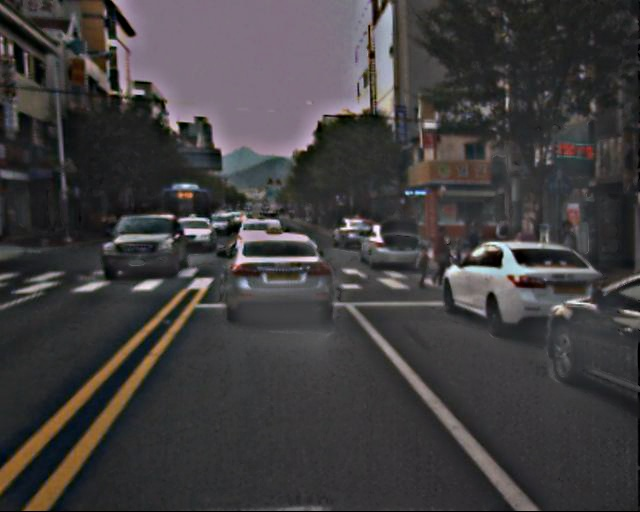person: (430, 227, 454, 286), (555, 222, 579, 281), (493, 216, 517, 273), (465, 221, 487, 278), (415, 246, 434, 292)
